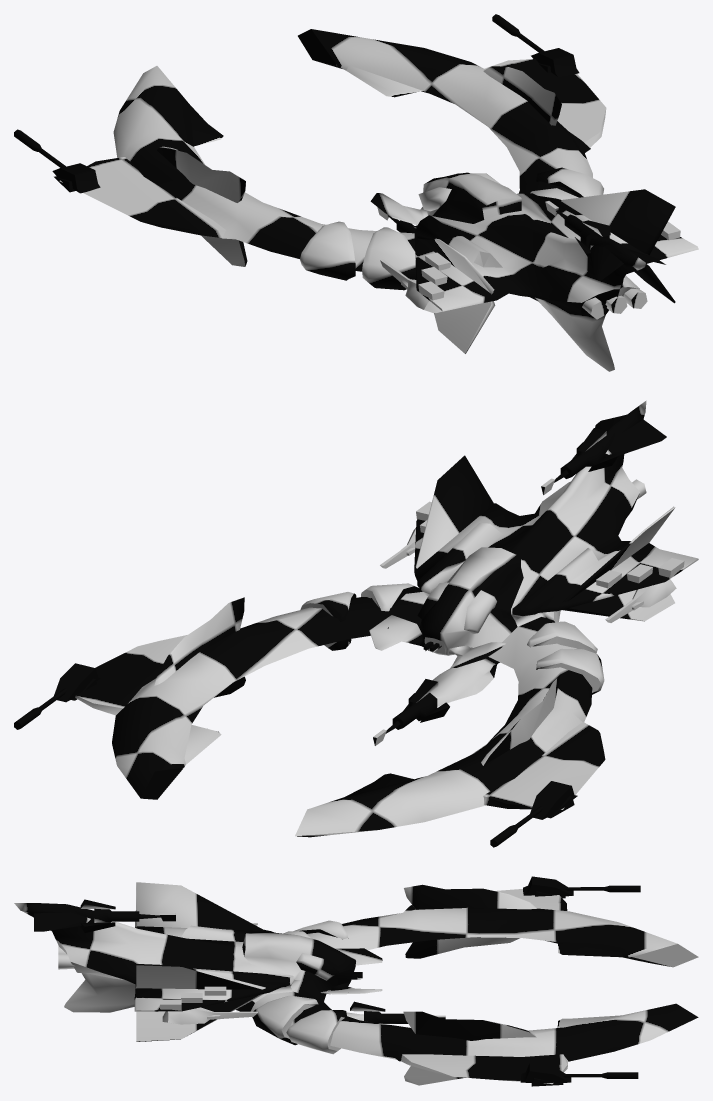
The model's file is goliath_reversed_angled_wings.obj.
3 renders of one model, top to bottom at view 1: azimuth 30°, elevation 25°; view 2: azimuth 150°, elevation 25°; view 3: azimuth 270°, elevation 25°, orthographic. The views are drawn at different scales.
Visible parts, largest first — view 1: main; view 2: main; view 3: main.
Part boxes in pixels (bbox=[...]): main: bbox=[14, 14, 698, 371]; main: bbox=[14, 400, 698, 847]; main: bbox=[14, 876, 698, 1086].
Bounding box in the file's own units: 137 × 41.54 × 200.
1 material, 1 textured.
